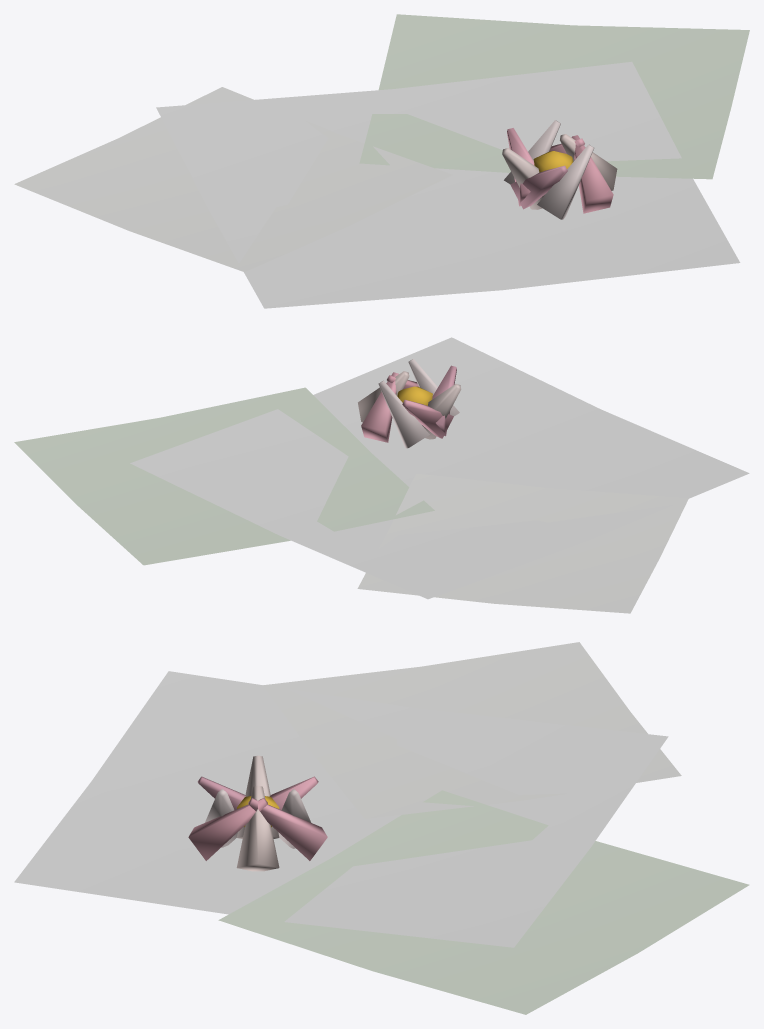
Rendered from lotus_pad.glb.
The picture shows the model from 3 angles, top to bottom: view 1: azimuth 30°, elevation 25°; view 2: azimuth 150°, elevation 25°; view 3: azimuth 270°, elevation 25°; orthographic projection. The views are drawn at different scales.
Parts seen in each view (by area): view 1: lotus_pad; view 2: lotus_pad; view 3: lotus_pad.
Boxes of the visible parts, box(x1,y1,x2,y2) form: lotus_pad: box(14, 14, 749, 308); lotus_pad: box(14, 337, 749, 613); lotus_pad: box(14, 642, 749, 1014).
Size of the model in its own units: 1.48 by 0.1384 by 1.24.
